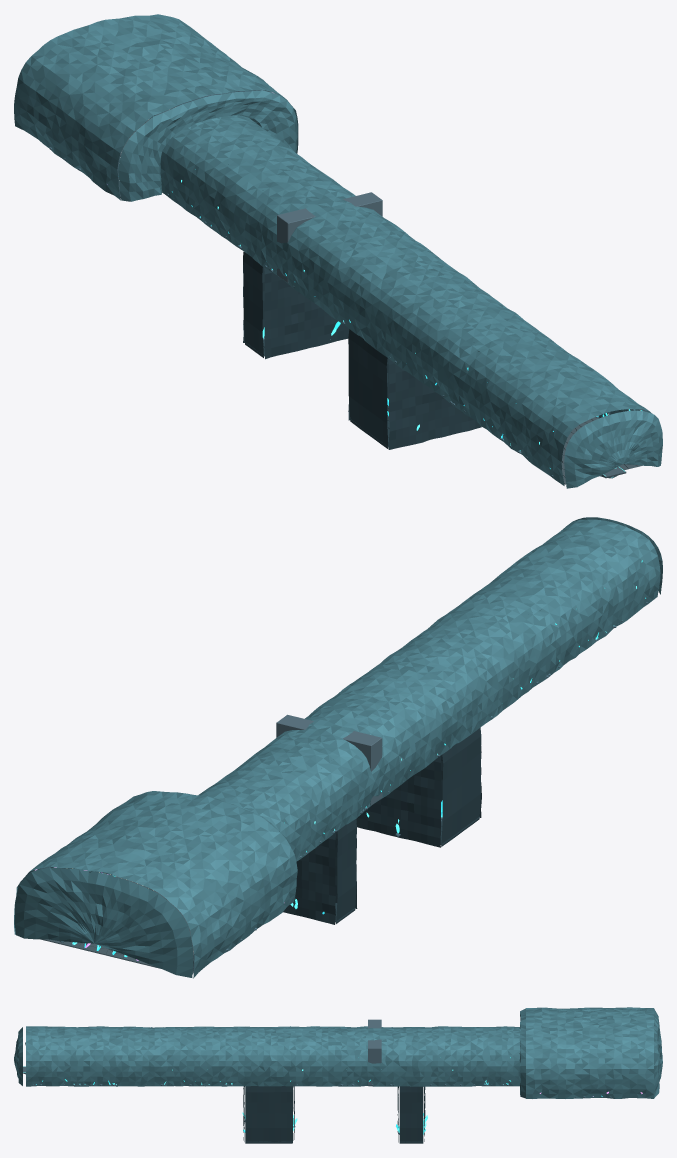
File: caverns.glb
The picture shows the model from 3 angles, top to bottom: view 1: azimuth 30°, elevation 25°; view 2: azimuth 150°, elevation 25°; view 3: azimuth 270°, elevation 25°; orthographic projection. The views are drawn at different scales.
Visible parts, largest first — view 1: room_boss, room_1-4, room_1-3, room_entrance, room_1-1, room_1-2, room_1-5; view 2: room_boss, room_1-4, room_1-3, room_1-1, room_1-2, room_entrance, room_1-5; view 3: room_boss, room_1-4, room_1-3, room_1-1, room_1-2, room_entrance, room_1-5.
Boxes of the visible parts, box(x1,y1,x2,y2) form: room_boss: box(14, 14, 298, 201); room_1-4: box(203, 146, 405, 359); room_1-3: box(318, 230, 487, 449); room_entrance: box(516, 374, 662, 488); room_1-1: box(458, 332, 613, 451); room_1-2: box(401, 291, 544, 410); room_1-5: box(160, 115, 290, 223); room_boss: box(14, 791, 297, 978); room_1-4: box(214, 698, 415, 924); room_1-3: box(329, 637, 498, 847); room_1-1: box(469, 552, 613, 672); room_1-2: box(412, 594, 556, 715); room_entrance: box(526, 517, 662, 630); room_1-5: box(198, 781, 300, 861); room_boss: box(519, 1007, 662, 1098); room_1-4: box(328, 1019, 470, 1143); room_1-3: box(225, 1026, 328, 1143); room_1-1: box(83, 1026, 154, 1086); room_1-2: box(154, 1026, 226, 1086); room_entrance: box(14, 1026, 83, 1086); room_1-5: box(470, 1026, 520, 1086).
Bounding box in the file's own units: 33.06 × 30.77 × 164.
